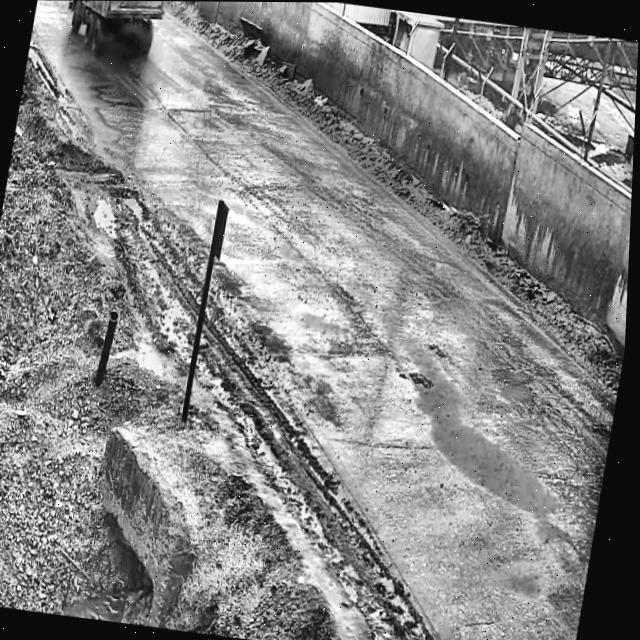dump_truck: (49, 0, 169, 63)
